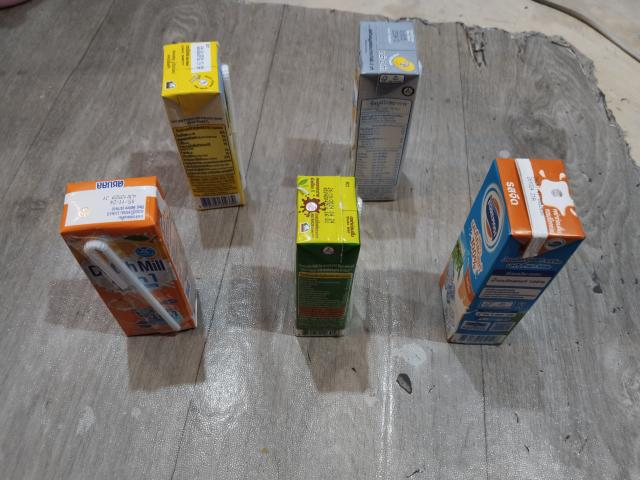drink_box: (429, 137, 596, 354), (55, 177, 207, 354), (160, 33, 260, 211), (286, 169, 369, 342), (354, 16, 423, 206)
